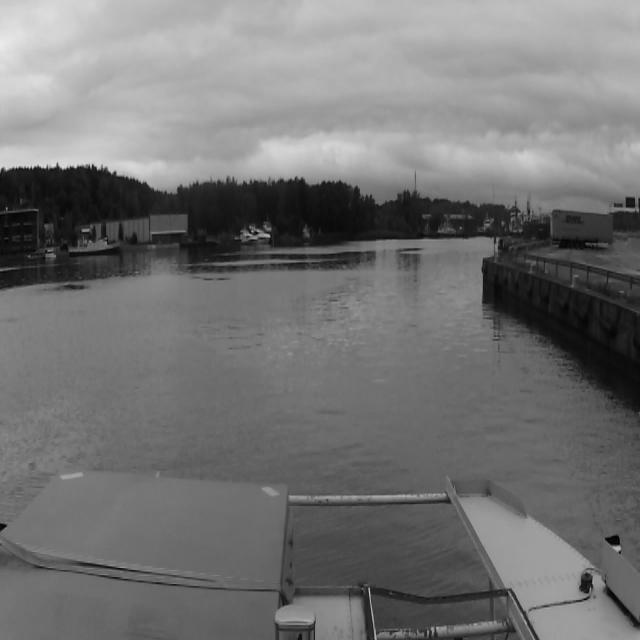ship: (68, 235, 120, 258), (240, 230, 258, 246), (258, 228, 270, 246), (45, 248, 56, 259)
